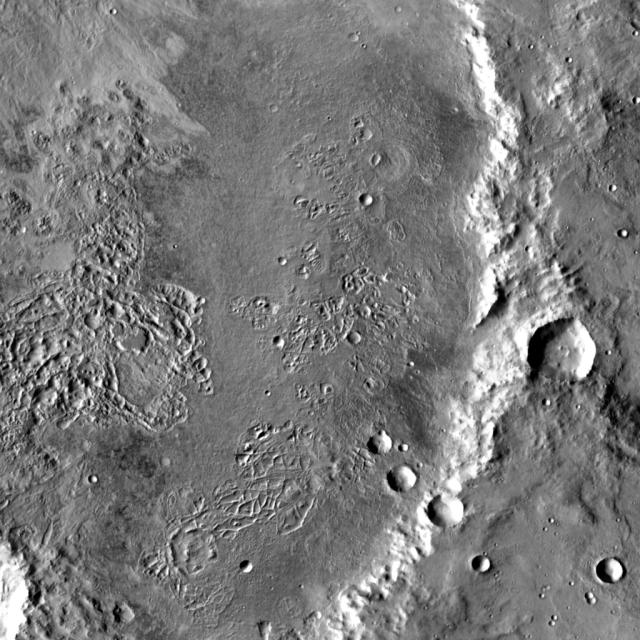crater: (530, 321, 598, 384), (170, 532, 222, 578), (429, 496, 466, 530), (389, 467, 419, 494), (598, 562, 624, 586), (370, 435, 393, 456), (115, 608, 137, 628), (473, 558, 492, 575), (86, 317, 103, 333), (348, 332, 364, 347), (257, 623, 272, 636), (239, 561, 253, 573), (361, 195, 374, 207), (273, 338, 286, 349), (362, 131, 374, 142), (88, 40, 99, 50), (36, 597, 46, 607), (162, 460, 172, 470), (351, 35, 361, 44), (373, 157, 383, 166), (90, 479, 100, 488), (272, 106, 281, 115), (619, 230, 629, 238), (93, 120, 102, 128), (124, 172, 133, 180), (403, 446, 411, 454), (200, 300, 208, 308), (42, 607, 50, 615), (67, 174, 75, 182), (280, 260, 288, 267), (104, 4, 112, 11), (544, 400, 552, 407), (605, 178, 612, 185), (578, 586, 585, 593), (586, 600, 594, 606), (560, 52, 568, 58), (520, 240, 526, 247), (631, 92, 636, 100)
